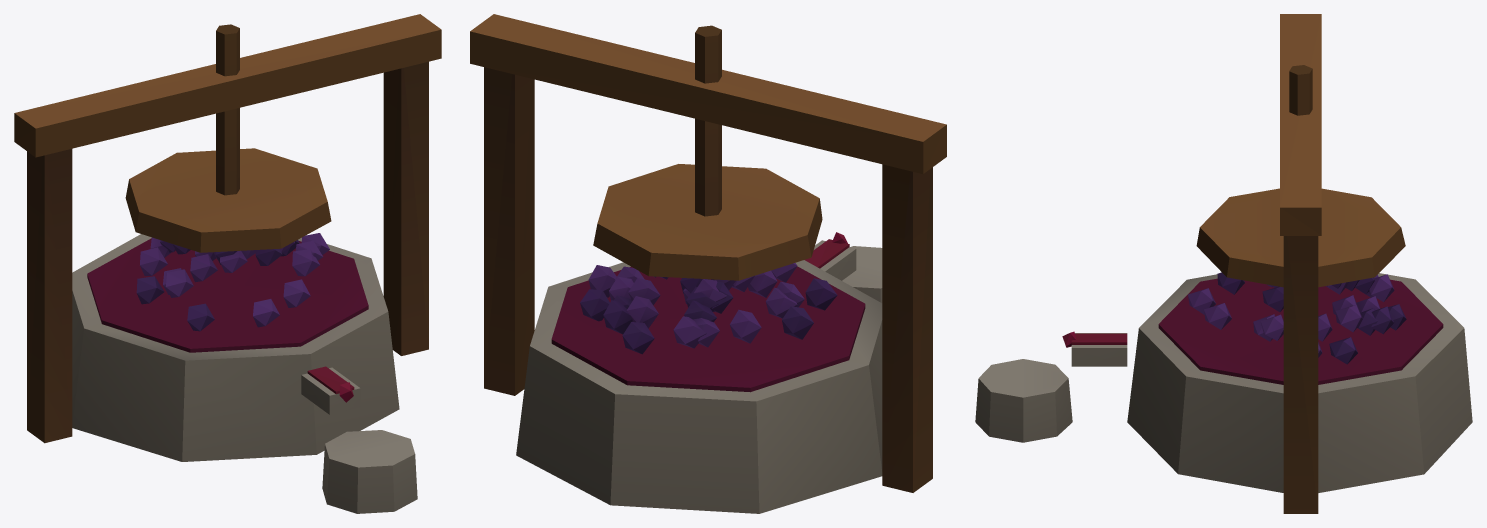
File: winepress.glb
3 views of the same model, side by side, from view 1: azimuth 30°, elevation 25°; view 2: azimuth 150°, elevation 25°; view 3: azimuth 270°, elevation 25° (orthographic). The views are drawn at different scales.
Parts seen in each view (by area): view 1: base, press_m, grapes_m; view 2: base, press_m, grapes_m; view 3: base, press_m, grapes_m.
Part boxes in pixels (x1,y1,x2,y2): base: (14, 14, 441, 513); press_m: (125, 24, 331, 252); grapes_m: (136, 233, 329, 331); base: (470, 14, 946, 513); press_m: (593, 25, 822, 280); grapes_m: (580, 263, 837, 354); base: (975, 14, 1472, 513); press_m: (1196, 65, 1405, 287); grapes_m: (1188, 272, 1406, 364).
Bounding box in the file's own units: 1.32 × 1.12 × 1.43.
